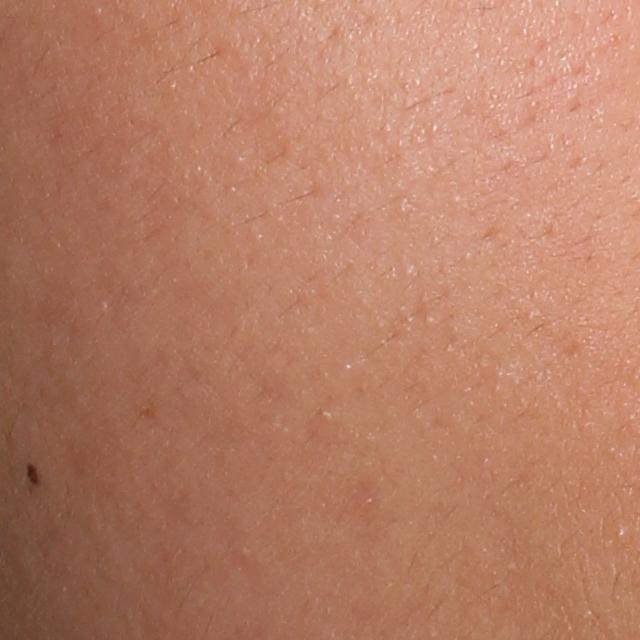comedo: (615, 526, 628, 543)
nevus: (26, 463, 41, 485)
